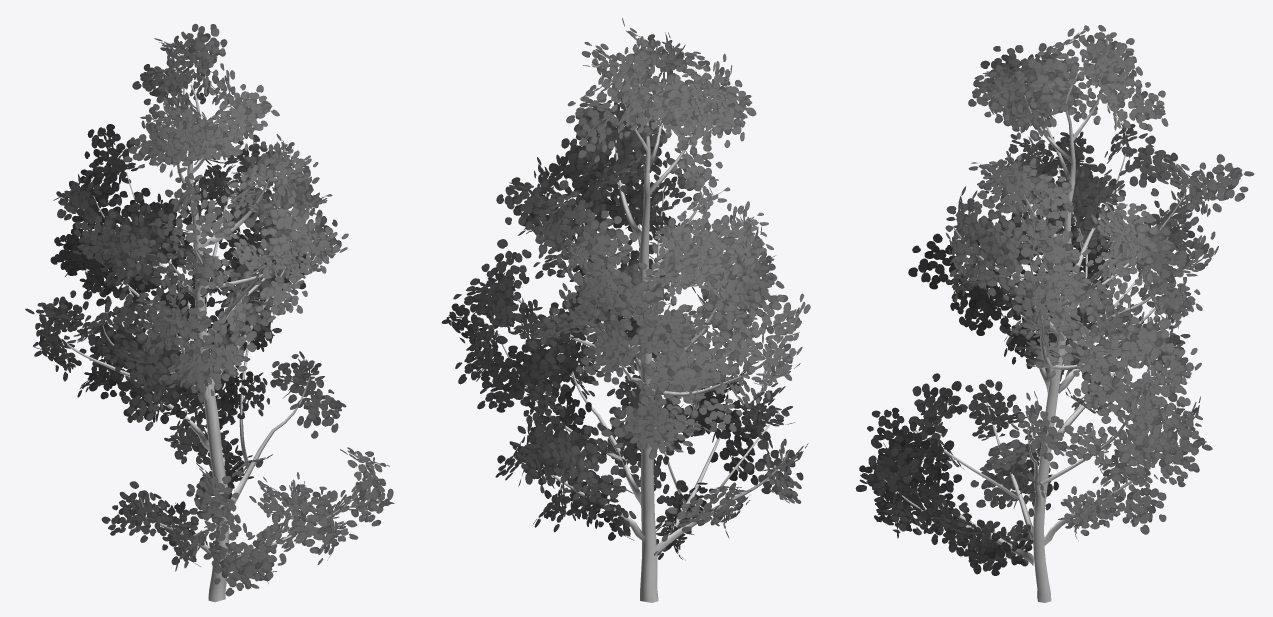
Rendered from SM_HazelBush_03.fbx.
The picture shows the model from 3 angles, left to right: view 1: azimuth 30°, elevation 25°; view 2: azimuth 150°, elevation 25°; view 3: azimuth 270°, elevation 25°; orthographic projection. The views are drawn at different scales.
Visible parts, largest first — view 1: SM_HazelBush_03_LOD0; view 2: SM_HazelBush_03_LOD0; view 3: SM_HazelBush_03_LOD0.
Part boxes in pixels (x1=…): SM_HazelBush_03_LOD0: x1=25, y1=23, x2=394, y2=602; SM_HazelBush_03_LOD0: x1=441, y1=18, x2=810, y2=602; SM_HazelBush_03_LOD0: x1=855, y1=25, x2=1254, y2=602.
Size of what is drawn, in the model's own units: 3.85 by 6.33 by 4.02.
